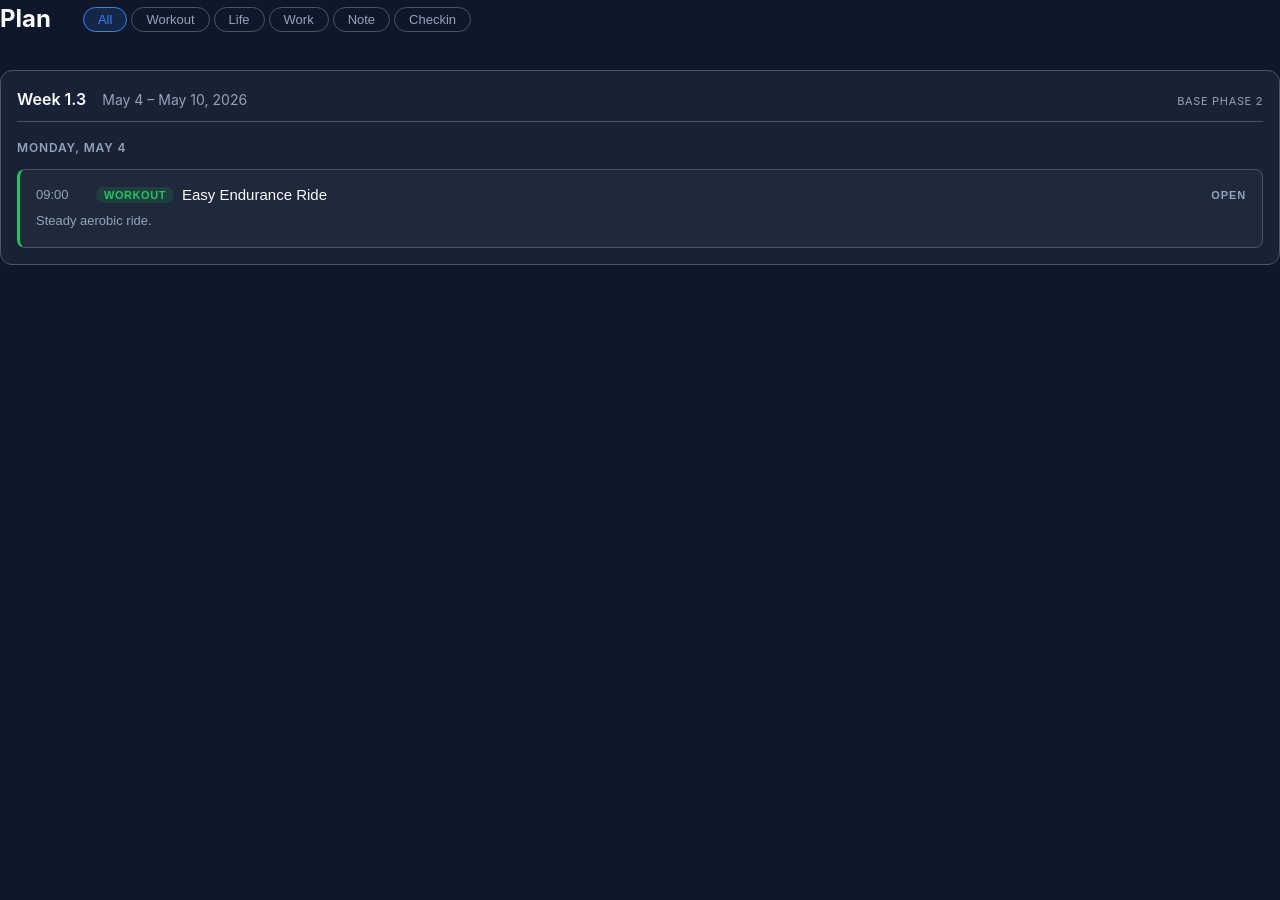
ListViewPage › opens the shared entry detail modal from the list view
Click the button "09:00 Workout Easy Endurance Ride Open Steady aerobic ride.". click: (52, 195)
box: [17, 169, 1263, 248]
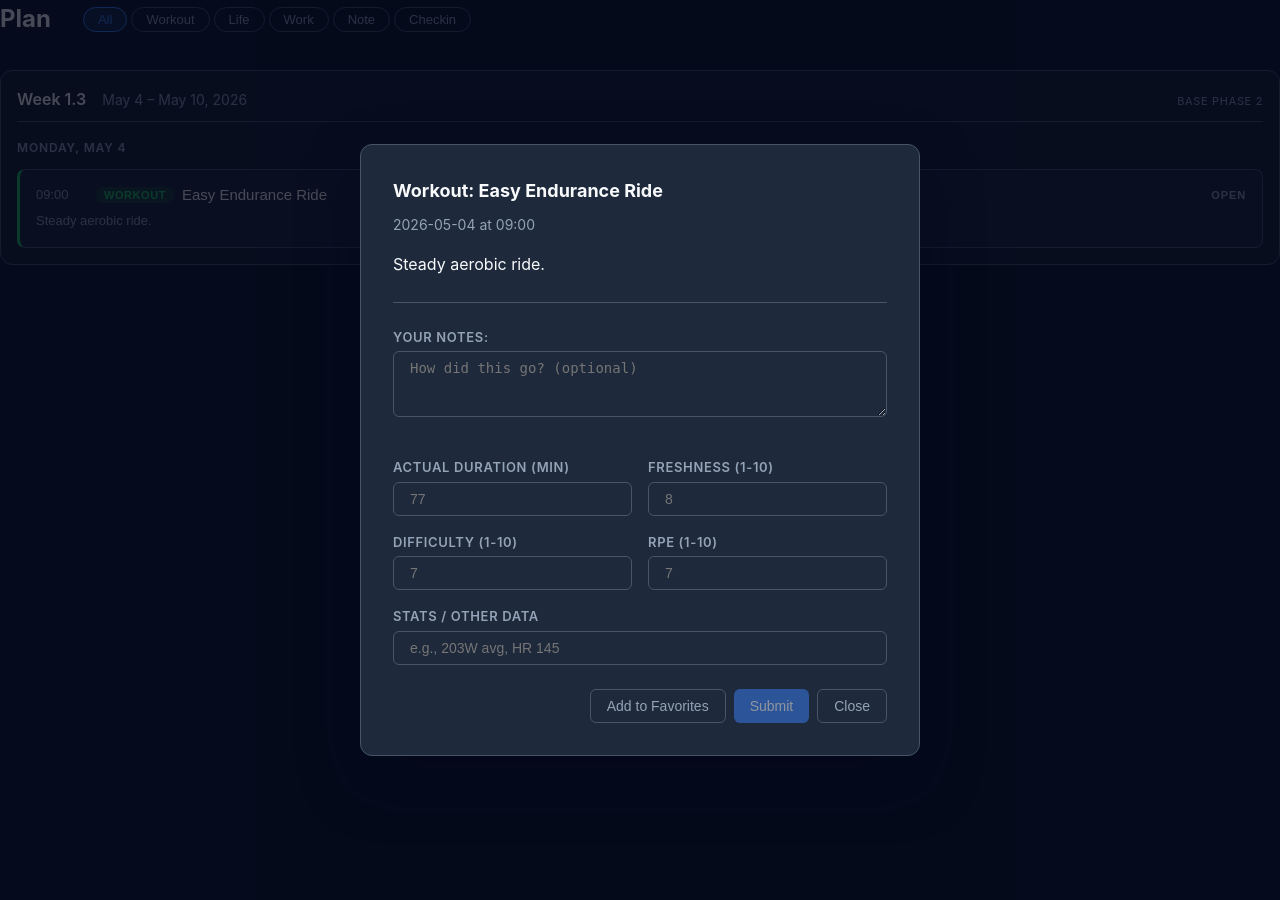
Result: the heading "Workout: Easy Endurance Ride" is shown at [393, 180, 663, 201]
Result: the button "Close" is shown at [817, 689, 887, 723]
